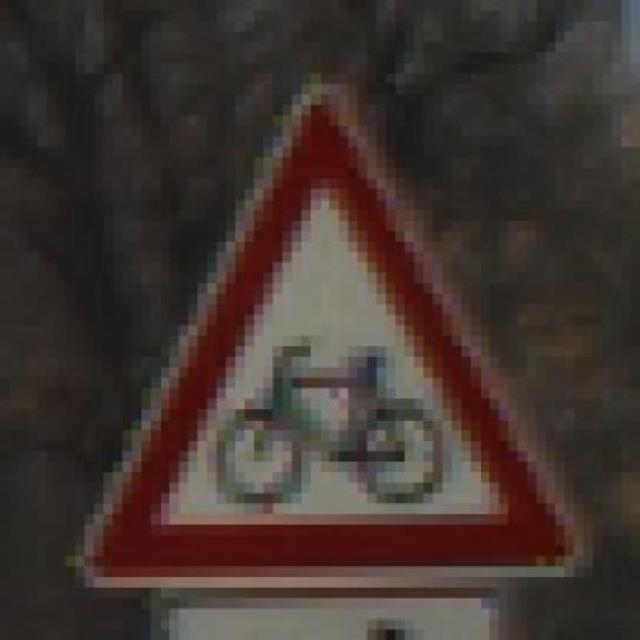CYCLE ROUTE AHEAD WARNING: (56, 74, 612, 588)
